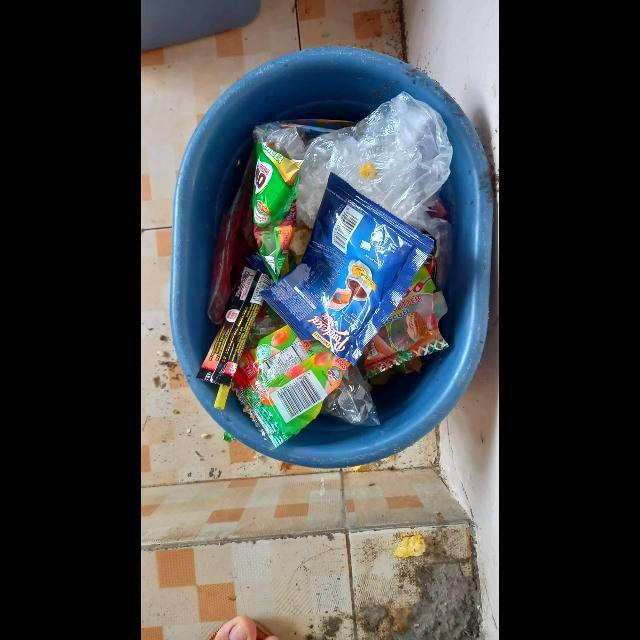plastic_bag: (267, 92, 453, 233)
plastic_sachet: (261, 173, 435, 366), (233, 326, 351, 448), (364, 255, 449, 376), (197, 267, 271, 384), (253, 141, 303, 284), (274, 119, 357, 134)
